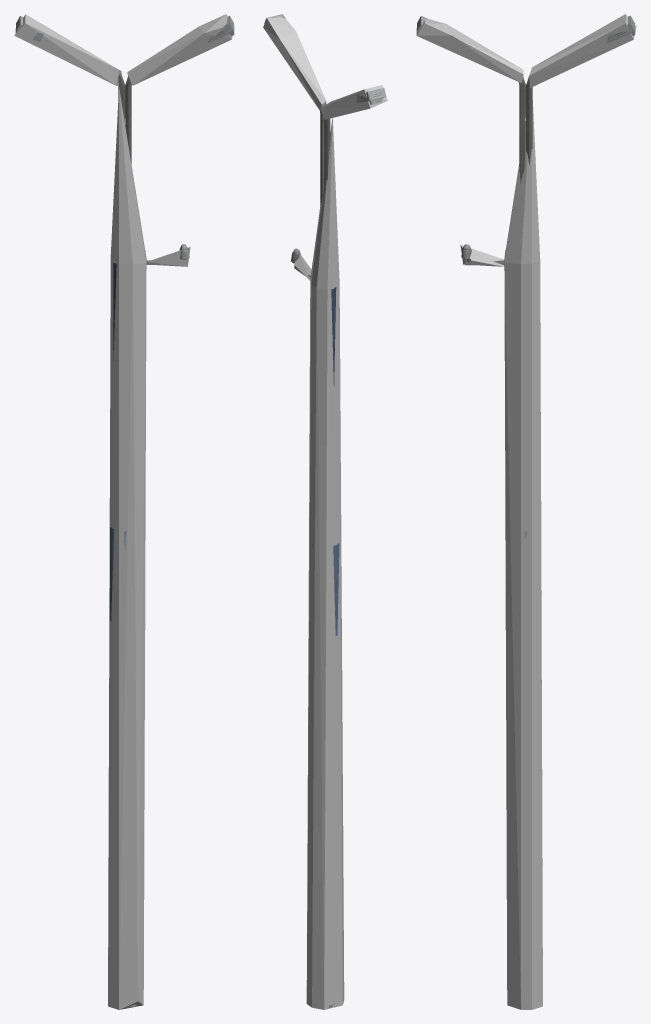
The model's file is SM_street_light_01.fbx.
3 views of the same model, side by side, from view 1: azimuth 90°, elevation 25°; view 2: azimuth 210°, elevation 25°; view 3: azimuth 270°, elevation 25° (orthographic). The views are drawn at different scales.
Visible parts, largest first — view 1: SM_street_light_01_ConvexHulls, SM_street_light_01; view 2: SM_street_light_01_ConvexHulls, SM_street_light_01; view 3: SM_street_light_01_ConvexHulls, SM_street_light_01.
Part boxes in pixels (left/top/right/bottom): SM_street_light_01_ConvexHulls: left=14, top=14, right=234, bottom=1009; SM_street_light_01: left=15, top=15, right=234, bottom=1008; SM_street_light_01_ConvexHulls: left=263, top=17, right=387, bottom=1009; SM_street_light_01: left=264, top=14, right=386, bottom=1007; SM_street_light_01_ConvexHulls: left=416, top=14, right=636, bottom=1009; SM_street_light_01: left=416, top=15, right=635, bottom=538.
Size of the model in its own units: 37.17 by 212 by 1046.
2 materials, 1 textured.
